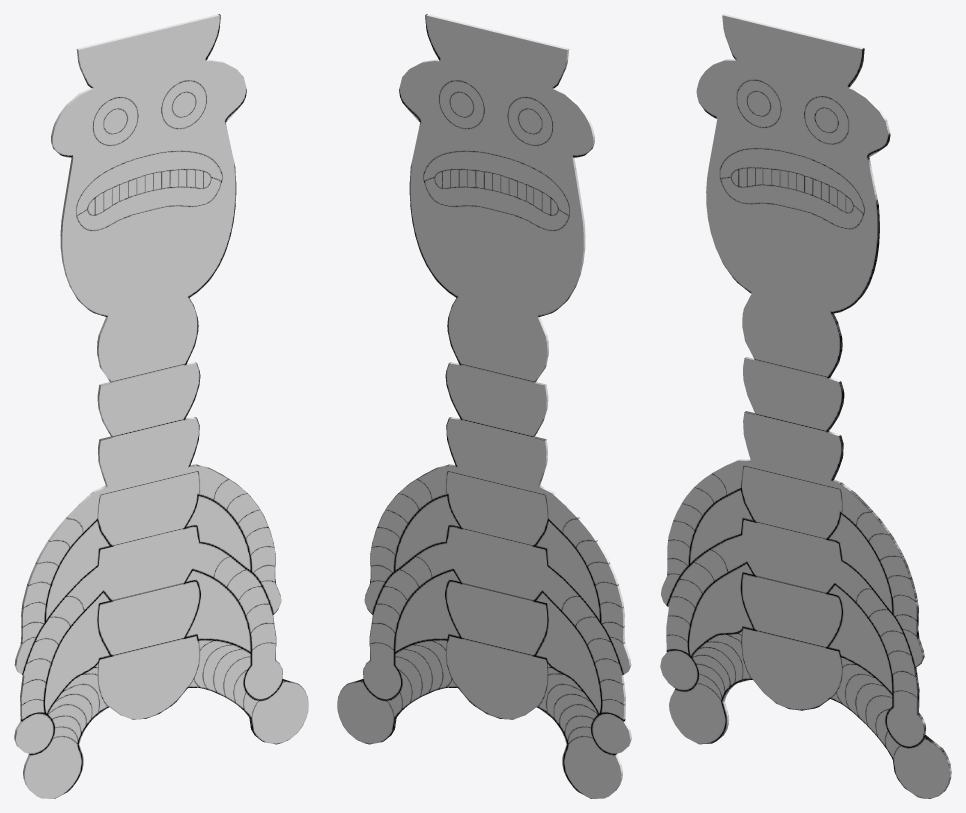
The model's file is 15_eongga.fbx.
3 renders of one model, left to right at view 1: azimuth 30°, elevation 25°; view 2: azimuth 150°, elevation 25°; view 3: azimuth 330°, elevation 25°, orthographic.
Parts seen in each view (by area): view 1: planarTrimmedSurface27; view 2: planarTrimmedSurface27; view 3: planarTrimmedSurface27.
Part boxes in pixels (x1,y1,x2,y2): planarTrimmedSurface27: [14, 14, 308, 798]; planarTrimmedSurface27: [337, 14, 631, 798]; planarTrimmedSurface27: [660, 14, 951, 798].
Bounding box in the file's own units: 16.43 × 39.84 × 0.1658.
1 material, 1 textured.
